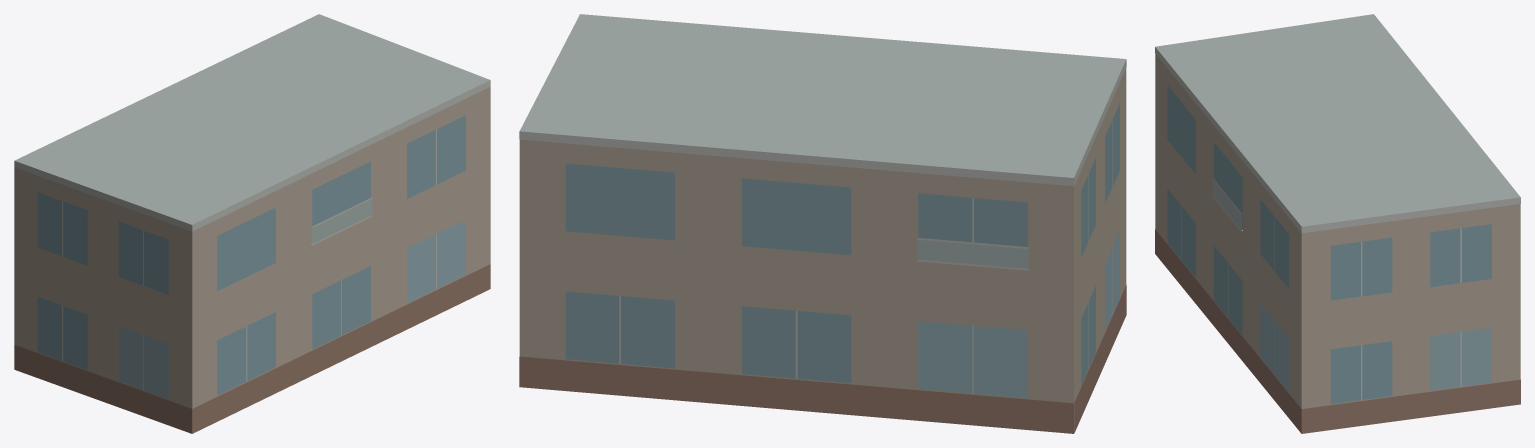
Rendered from survey-upis-32513621.glb.
The picture shows the model from 3 angles, left to right: view 1: azimuth 30°, elevation 25°; view 2: azimuth 150°, elevation 25°; view 3: azimuth 270°, elevation 25°; orthographic projection. The views are drawn at different scales.
Parts seen in each view (by area): view 1: survey-upis-32513621.tmp; view 2: survey-upis-32513621.tmp; view 3: survey-upis-32513621.tmp.
Part boxes in pixels (left/top/right/bottom): survey-upis-32513621.tmp: left=14, top=14, right=490, bottom=433; survey-upis-32513621.tmp: left=519, top=14, right=1126, bottom=433; survey-upis-32513621.tmp: left=1155, top=14, right=1520, bottom=433.
Bounding box in the file's own units: 16.98 × 7.7 × 12.33.
